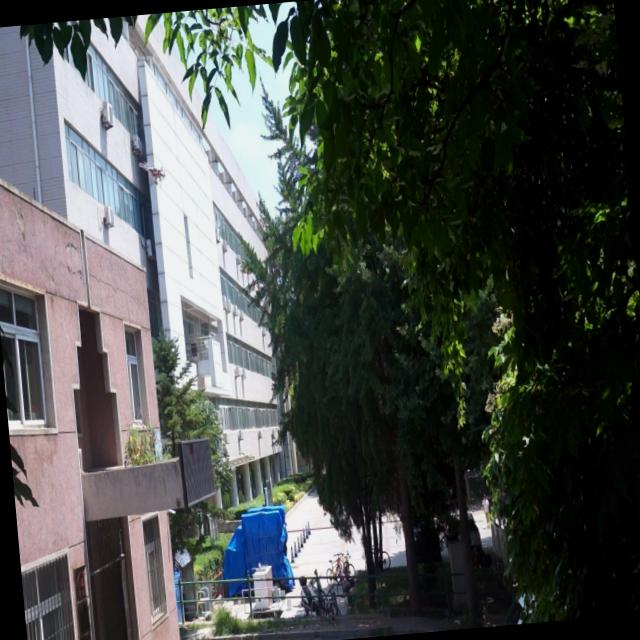drone: (137, 157, 166, 185)
